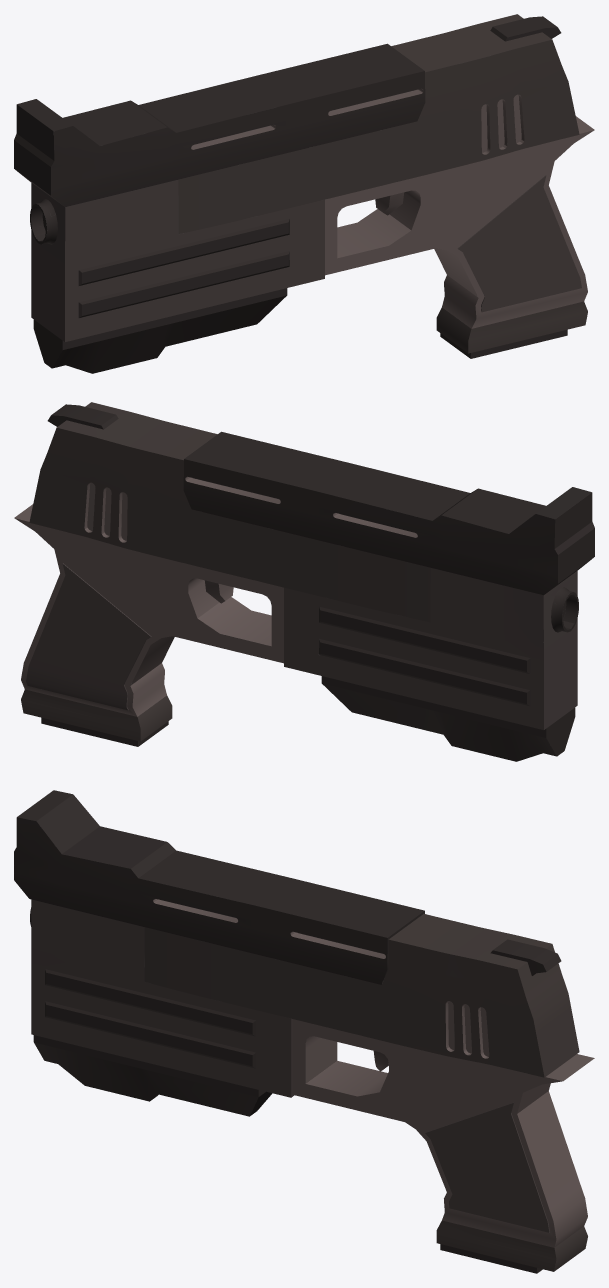
The model's file is ArmaRota.fbx.
3 renders of one model, top to bottom at view 1: azimuth 30°, elevation 25°; view 2: azimuth 150°, elevation 25°; view 3: azimuth 330°, elevation 25°, orthographic.
Visible parts, largest first — view 1: ArmaRota; view 2: ArmaRota; view 3: ArmaRota.
Boxes of the visible parts, x1,y1,x2,y2 form: ArmaRota: (14, 14, 594, 373); ArmaRota: (14, 402, 594, 761); ArmaRota: (14, 790, 594, 1273).
Bounding box in the file's own units: 252 × 147 × 30.62.
1 material, 1 textured.
